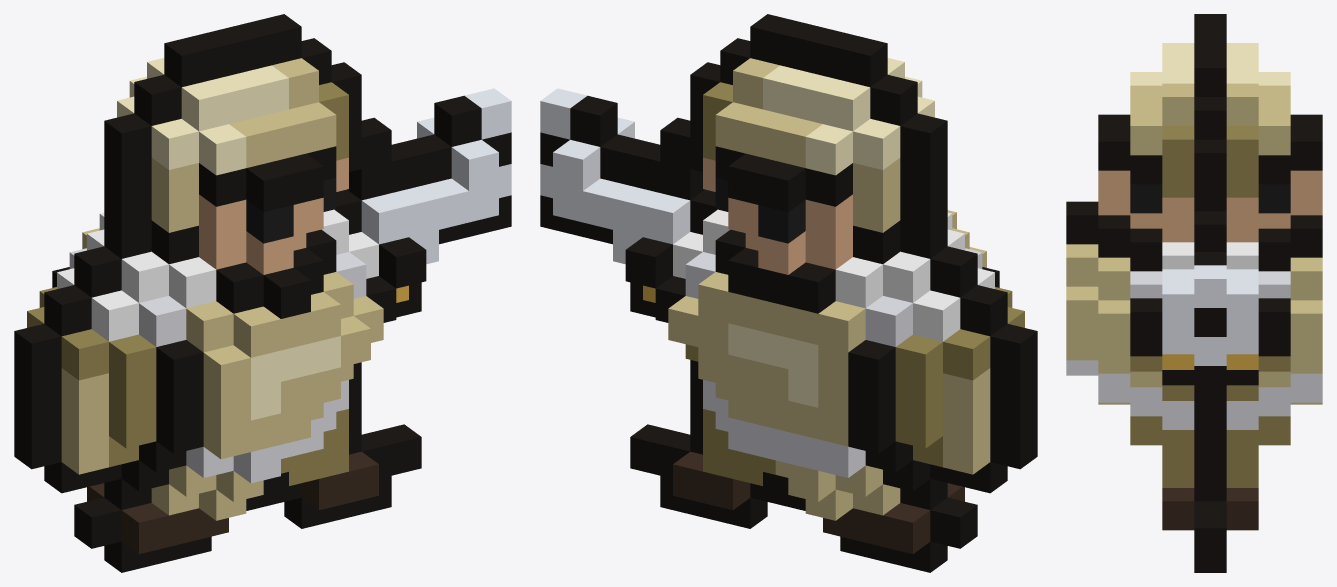
Rendered from paladin.glb.
The picture shows the model from 3 angles, left to right: view 1: azimuth 30°, elevation 25°; view 2: azimuth 150°, elevation 25°; view 3: azimuth 270°, elevation 25°; orthographic projection. The views are drawn at different scales.
Parts seen in each view (by area): view 1: f0, f6, f3, f2, f4, f1; view 2: f0, f6, f3, f2, f1; view 3: f0, f6, f4, f2, f3.
Part boxes in pixels (x1=…): f0: x1=14, y1=14, x2=511, y2=572; f6: x1=347, y1=133, x2=511, y2=288; f3: x1=74, y1=402, x2=421, y2=571; f2: x1=246, y1=401, x2=336, y2=510; f4: x1=199, y1=363, x2=361, y2=539; f1: x1=421, y1=147, x2=481, y2=240; f0: x1=540, y1=14, x2=1037, y2=572; f6: x1=540, y1=133, x2=704, y2=288; f3: x1=630, y1=398, x2=977, y2=569; f2: x1=715, y1=398, x2=847, y2=510; f1: x1=570, y1=148, x2=629, y2=240; f0: x1=1066, y1=14, x2=1322, y2=572; f6: x1=1130, y1=269, x2=1290, y2=394; f4: x1=1194, y1=412, x2=1226, y2=501; f2: x1=1098, y1=373, x2=1322, y2=402; f3: x1=1194, y1=515, x2=1226, y2=572.
Bounding box in the file's own units: 1 × 1 × 0.5.
